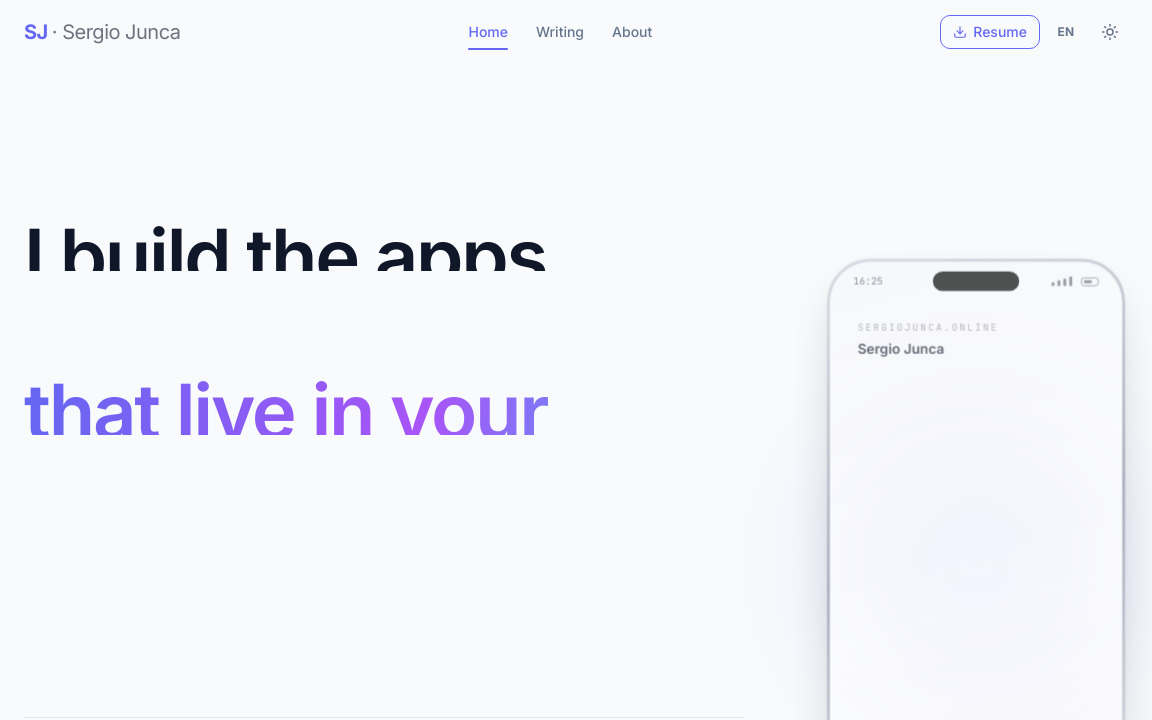
Test case: language preference › switches the whole UI to spanish and persists it
Click the button with aria-label "switch to spanish": click(1066, 32) [1048,14,1084,50]
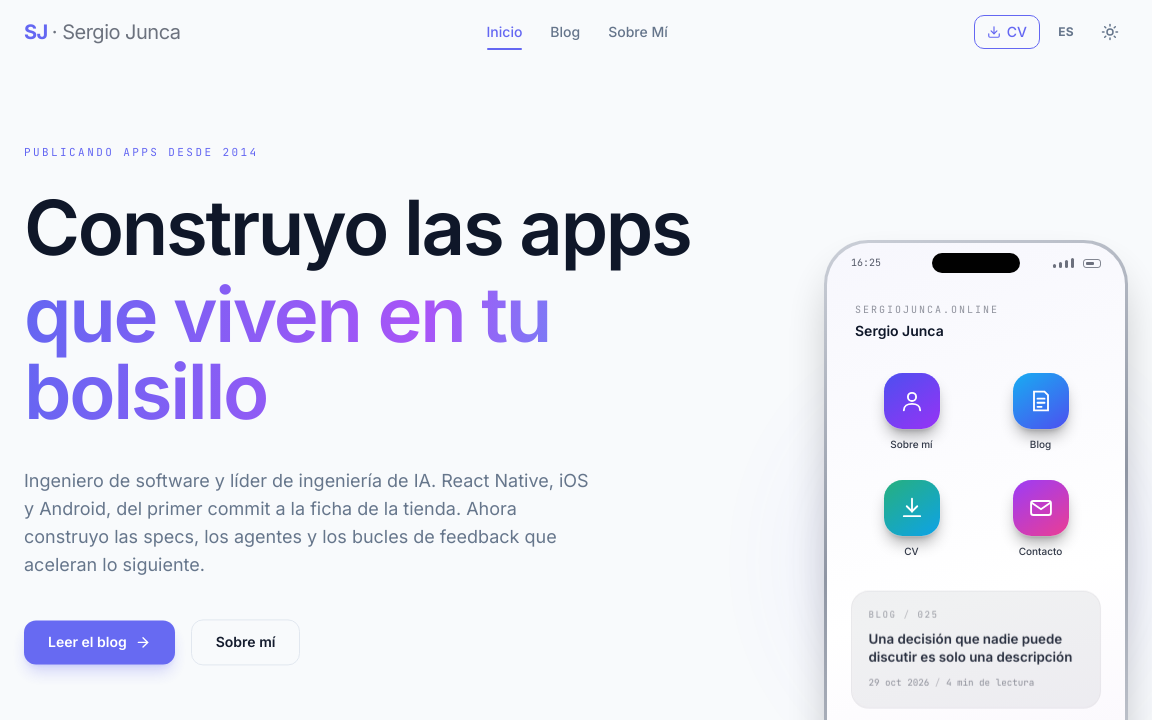
expect the navigation bar named "Navegación principal" is shown: met, box [24,14,1128,50]
